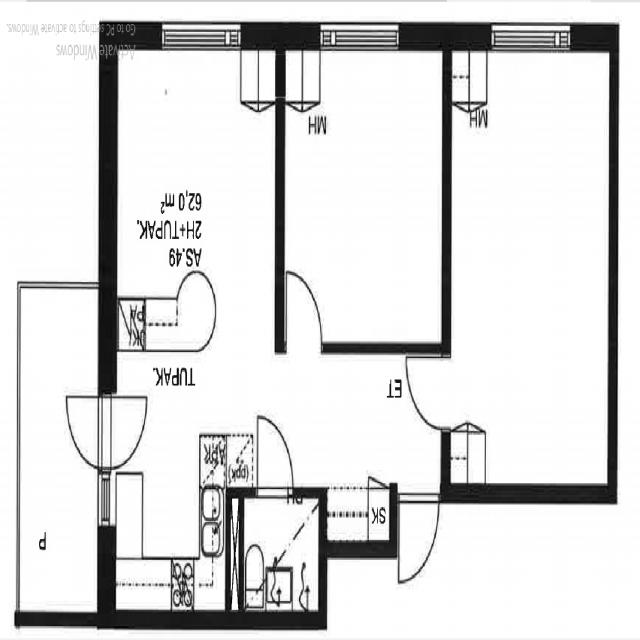door: (98, 396, 154, 470), (62, 396, 117, 470), (399, 485, 438, 582), (408, 357, 452, 428), (257, 416, 293, 498), (286, 272, 321, 352)
